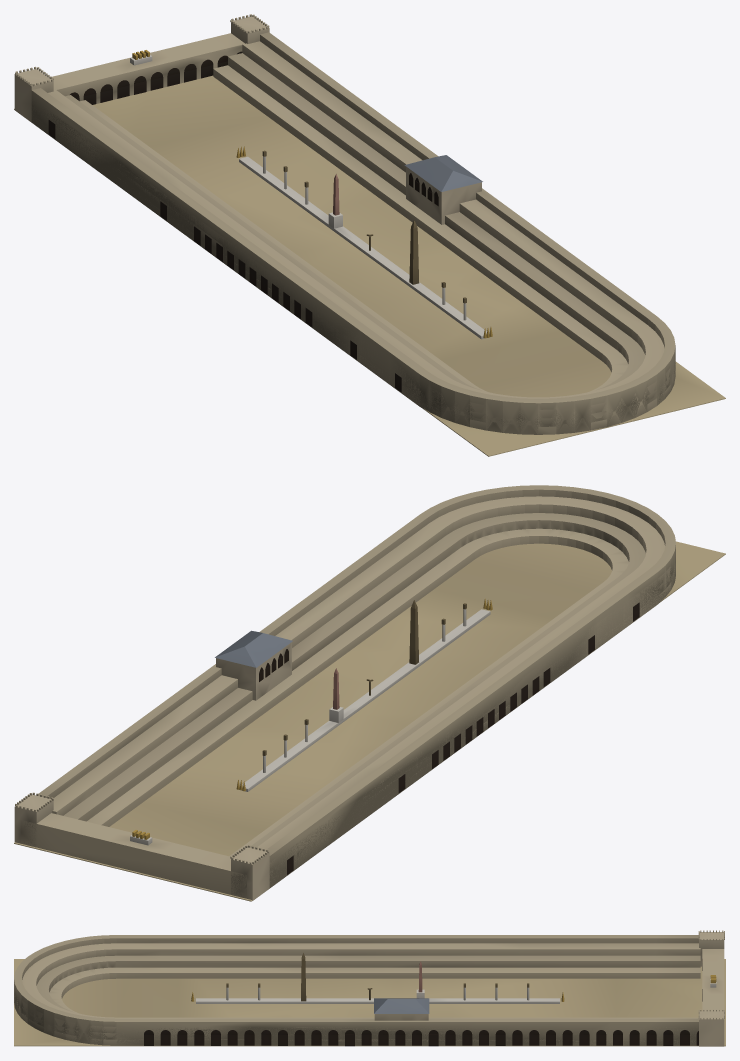
File: hippodrome.glb
3 renders of one model, top to bottom at view 1: azimuth 30°, elevation 25°; view 2: azimuth 150°, elevation 25°; view 3: azimuth 270°, elevation 25°, orthographic. The views are drawn at different scales.
Parts seen in each view (by area): view 1: p0_seating, p1_gates, p2_monuments; view 2: p0_seating, p1_gates, p2_monuments; view 3: p0_seating, p1_gates, p2_monuments.
Boxes of the visible parts, left/top/right/bottom form: p0_seating: left=14, top=32, right=725, bottom=456; p1_gates: left=14, top=14, right=482, bottom=224; p2_monuments: left=236, top=146, right=492, bottom=339; p0_seating: left=14, top=485, right=725, bottom=901; p1_gates: left=14, top=630, right=292, bottom=900; p2_monuments: left=236, top=598, right=492, bottom=791; p0_seating: left=14, top=935, right=725, bottom=1046; p1_gates: left=374, top=930, right=724, bottom=1046; p2_monuments: left=191, top=953, right=564, bottom=1003.
Size of the model in its own units: 131 by 35.27 by 450.
